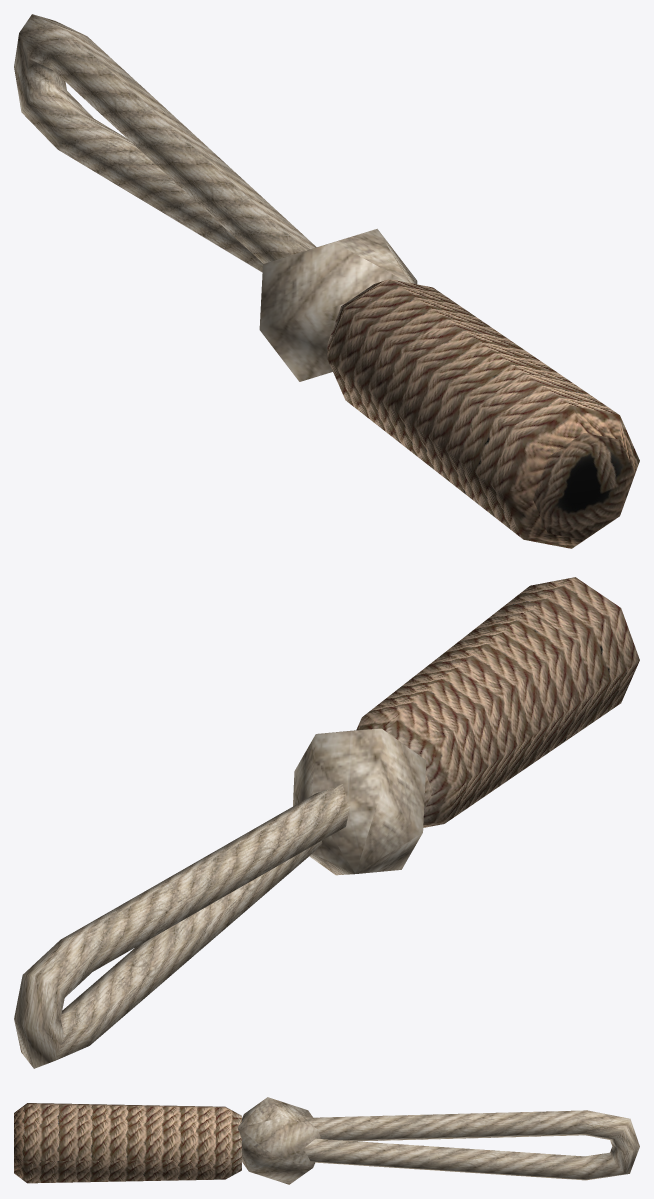
File: Rope Loop End.fbx
3 renders of one model, top to bottom at view 1: azimuth 30°, elevation 25°; view 2: azimuth 150°, elevation 25°; view 3: azimuth 270°, elevation 25°, orthographic. The views are drawn at different scales.
Visible parts, largest first — view 1: Rope Loop End; view 2: Rope Loop End; view 3: Rope Loop End.
Part boxes in pixels (x1,y1,x2,y2): Rope Loop End: (14, 14, 639, 548); Rope Loop End: (14, 577, 639, 1068); Rope Loop End: (14, 1097, 639, 1184).
Bounding box in the file's own units: 16.06 × 109 × 15.5.
2 materials, 2 textured.
